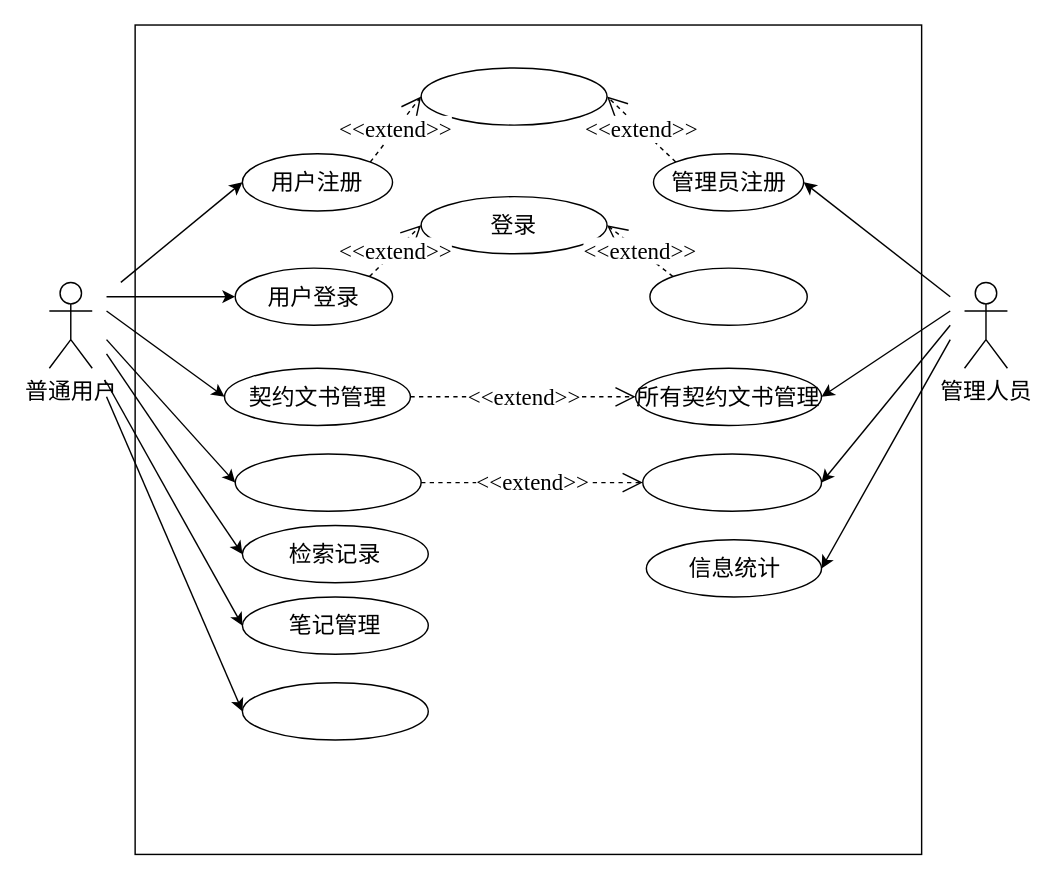
Image size: 1055x879. Some labels were removed from this diagram. The box of each missing label's shape, as (x1, y1, x2, y2) in pixels:
分类管理: (234, 453, 421, 511)
所有分类管理管理: (641, 453, 822, 511)
注册: (420, 66, 607, 125)
管理员登录: (649, 267, 807, 325)
阅读记录: (241, 681, 428, 740)
